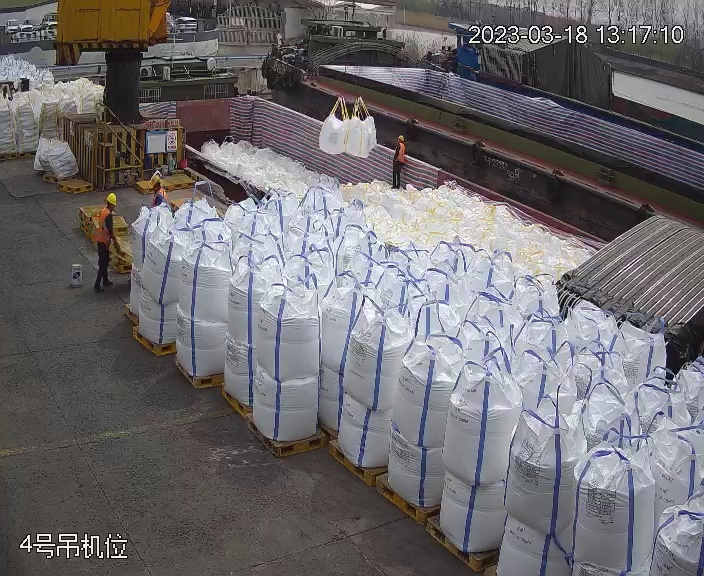head: (97, 190, 119, 225), (146, 173, 166, 203), (395, 133, 405, 151)
helmet: (104, 191, 118, 204), (149, 175, 161, 188), (398, 134, 404, 141)
people: (90, 191, 120, 292), (391, 131, 406, 189)
